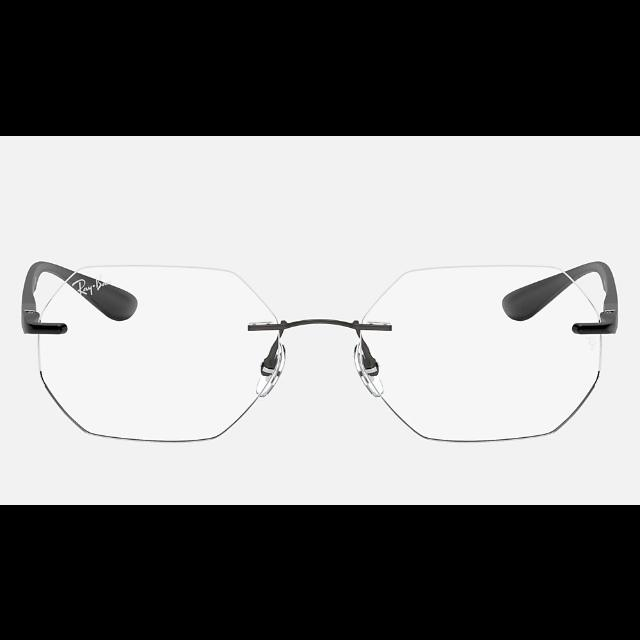glasses: (22, 259, 618, 441)
